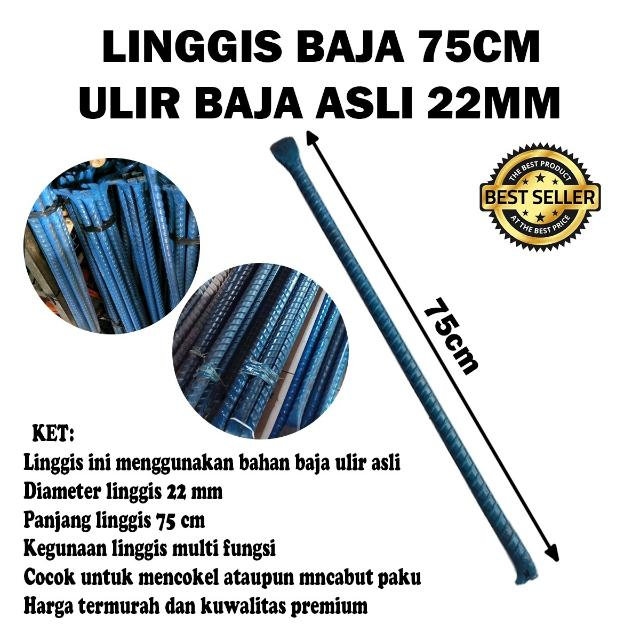crow bar: (263, 124, 545, 599)
